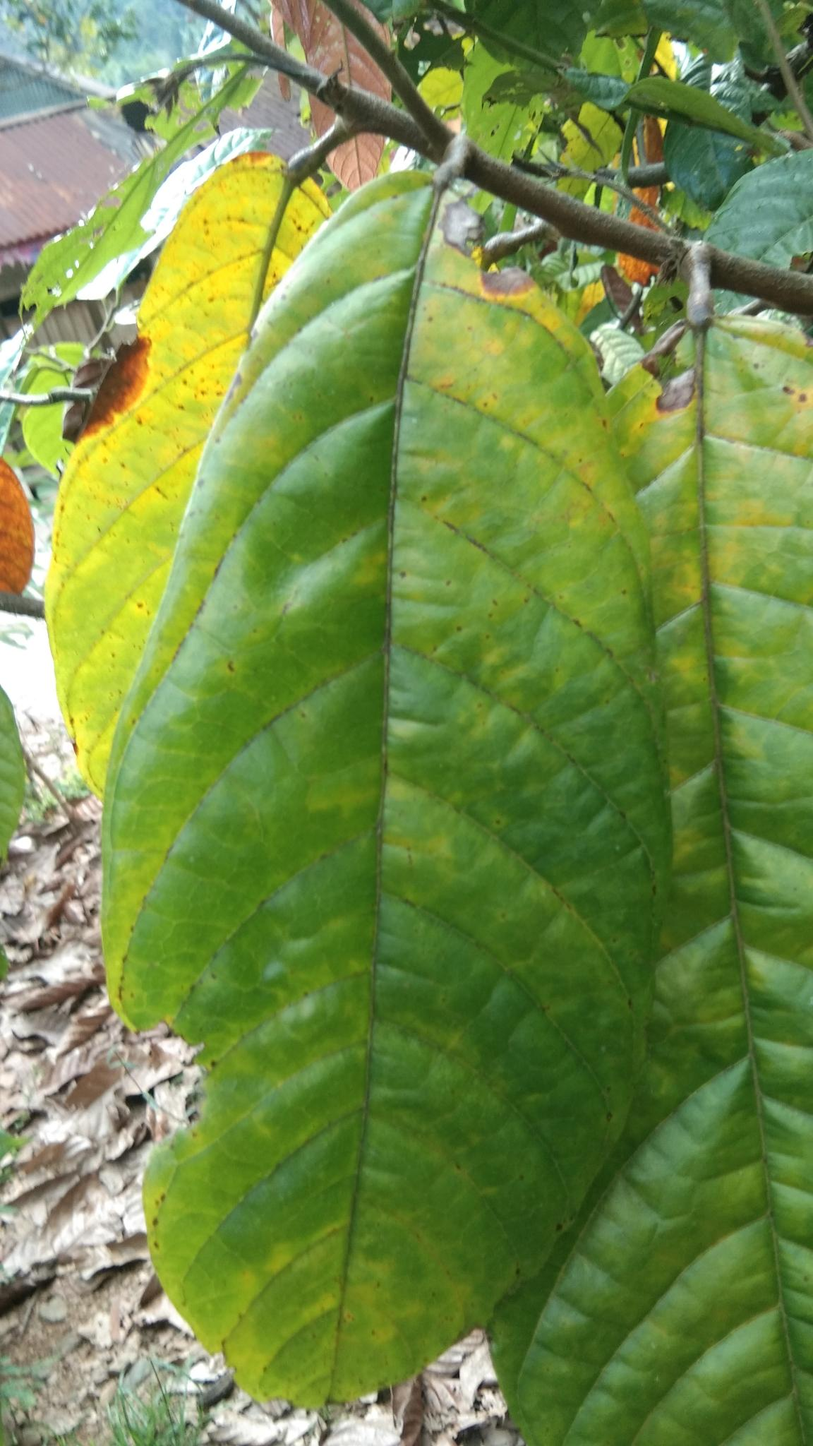Fosforo: (73, 161, 701, 1439), (494, 315, 813, 1446)
